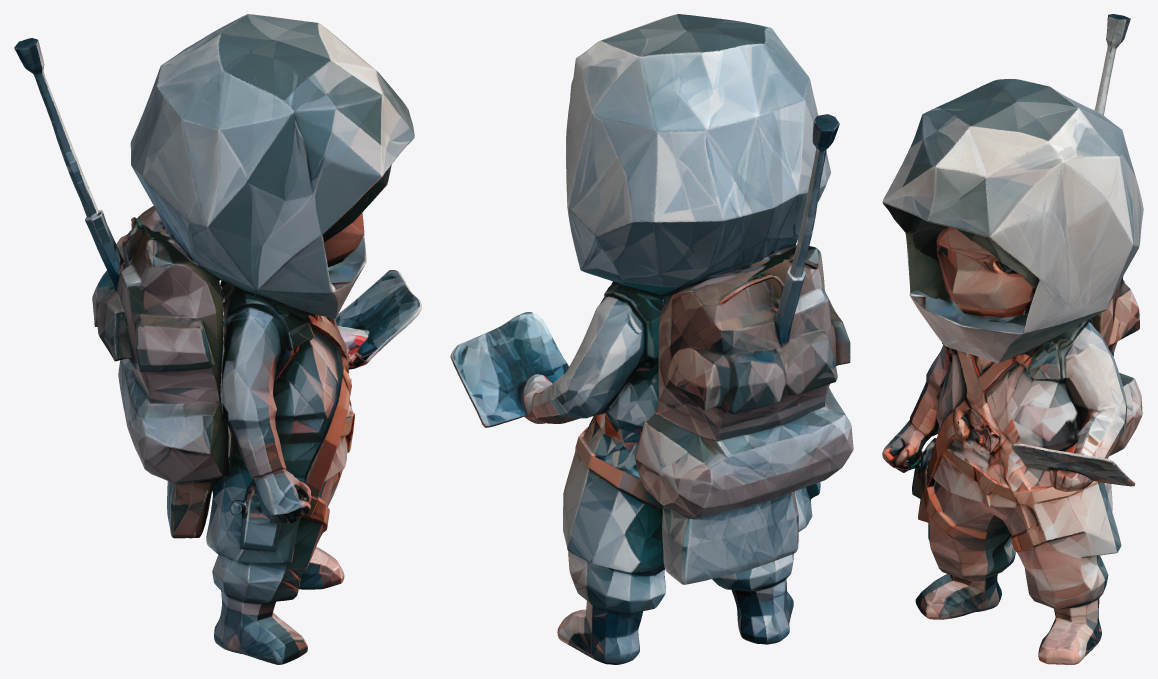
The model's file is social-media.glb.
3 views of the same model, side by side, from view 1: azimuth 30°, elevation 25°; view 2: azimuth 150°, elevation 25°; view 3: azimuth 270°, elevation 25° (orthographic). The views are drawn at different scales.
Parts seen in each view (by area): view 1: input; view 2: input; view 3: input.
Boxes of the visible parts, x1,y1,x2,y2 form: input: [14, 14, 421, 664]; input: [450, 14, 853, 664]; input: [882, 14, 1143, 664].
Size of the model in its own units: 0.6708 by 0.9999 by 0.4482.
Materials: 1 (1 with a texture image).
